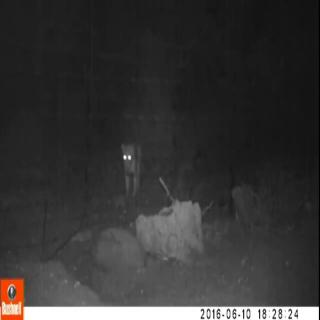Leopard: (114, 127, 152, 212)
